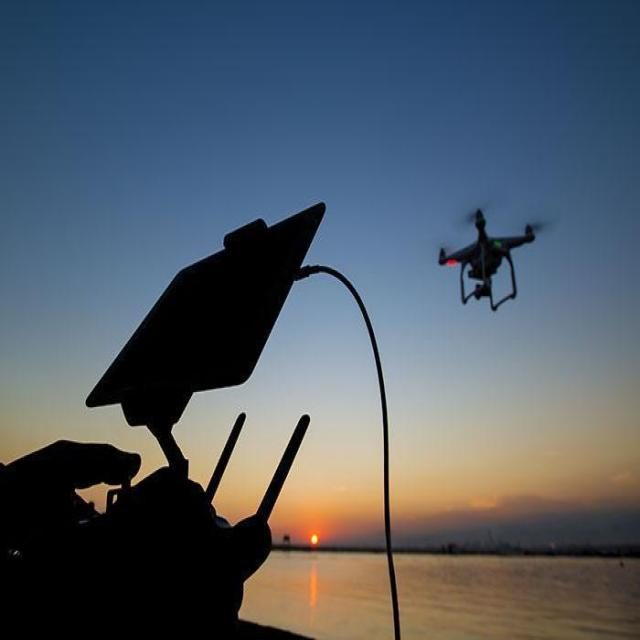drone: (436, 205, 536, 314)
